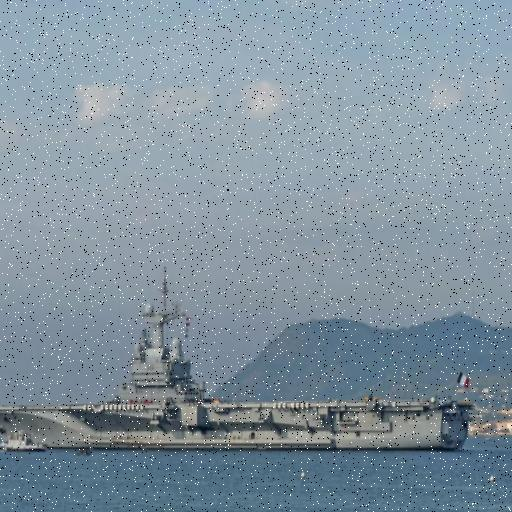Portanaves: (1, 262, 476, 456)
